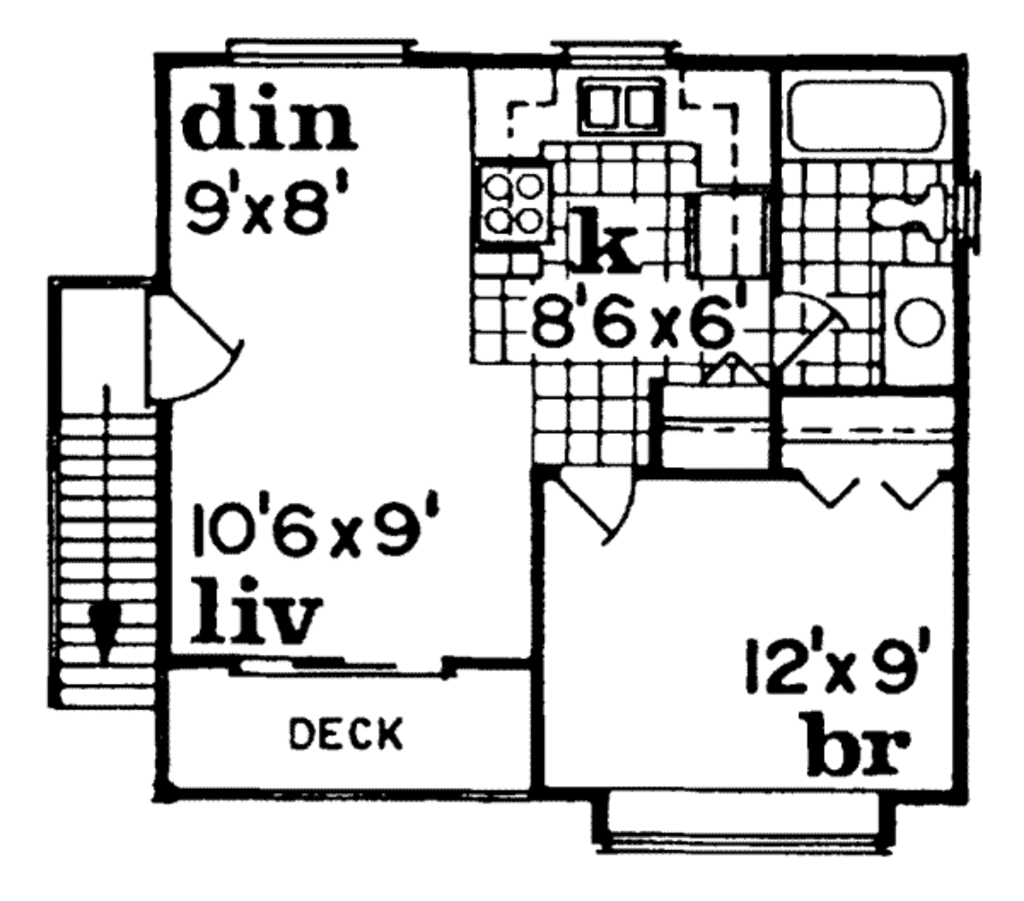door: (132, 287, 260, 405), (548, 452, 645, 547), (773, 286, 841, 383)
large_sink: (860, 183, 978, 252)
small_sink: (871, 271, 973, 387)
stairs: (48, 400, 160, 730)
tub: (775, 71, 969, 175)
twin_sink: (571, 68, 678, 142)
window: (225, 31, 418, 75), (551, 37, 680, 61)
